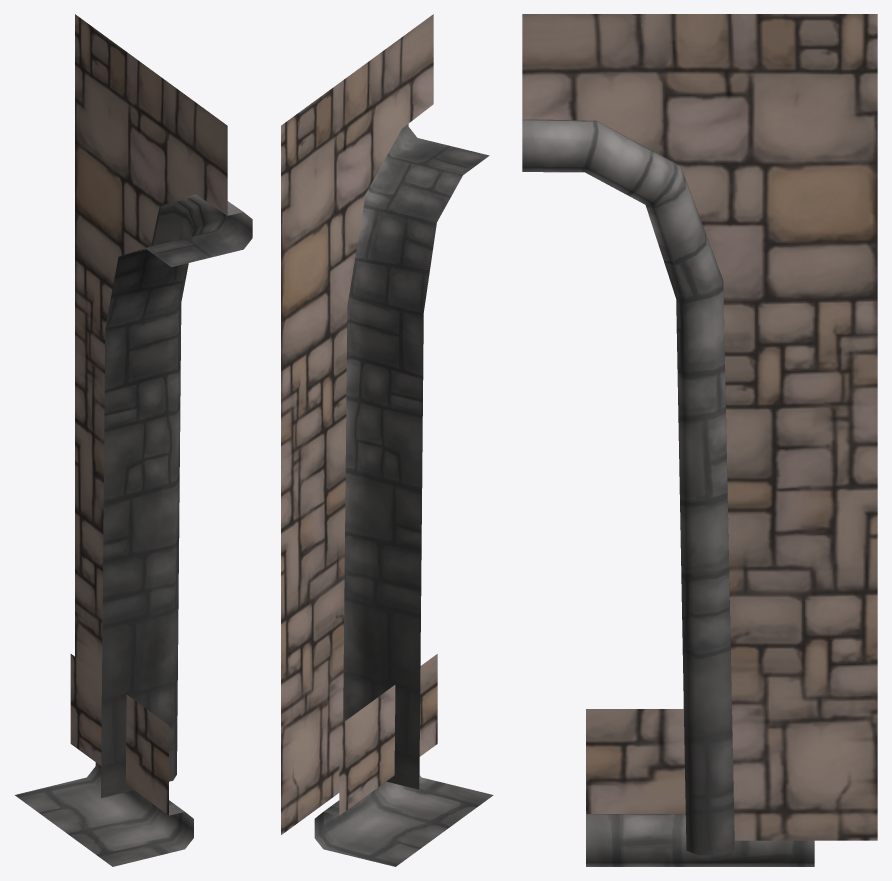
File: Obj_estructuracastillocorrecion.fbx
3 views of the same model, side by side, from view 1: azimuth 30°, elevation 25°; view 2: azimuth 150°, elevation 25°; view 3: azimuth 270°, elevation 25° (orthographic). The views are drawn at different scales.
Visible parts, largest first — view 1: Obj_estructuracastillocorrecion_Muromande, Obj_estructuracastillocorrecion_Union; view 2: Obj_estructuracastillocorrecion_Muromande, Obj_estructuracastillocorrecion_Union; view 3: Obj_estructuracastillocorrecion_Muromande, Obj_estructuracastillocorrecion_Union.
Boxes of the visible parts, x1,y1,x2,y2 form: Obj_estructuracastillocorrecion_Muromande: (75, 14, 252, 798); Obj_estructuracastillocorrecion_Union: (15, 654, 193, 866); Obj_estructuracastillocorrecion_Muromande: (281, 14, 489, 834); Obj_estructuracastillocorrecion_Union: (314, 654, 493, 866); Obj_estructuracastillocorrecion_Muromande: (522, 14, 877, 855); Obj_estructuracastillocorrecion_Union: (586, 709, 814, 866).
Size of the model in its own units: 0.7466 by 4.69 by 1.75.
